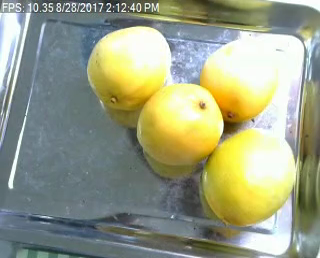Mango: (201, 126, 295, 228), (135, 84, 225, 165), (87, 26, 172, 109), (202, 35, 278, 120)
